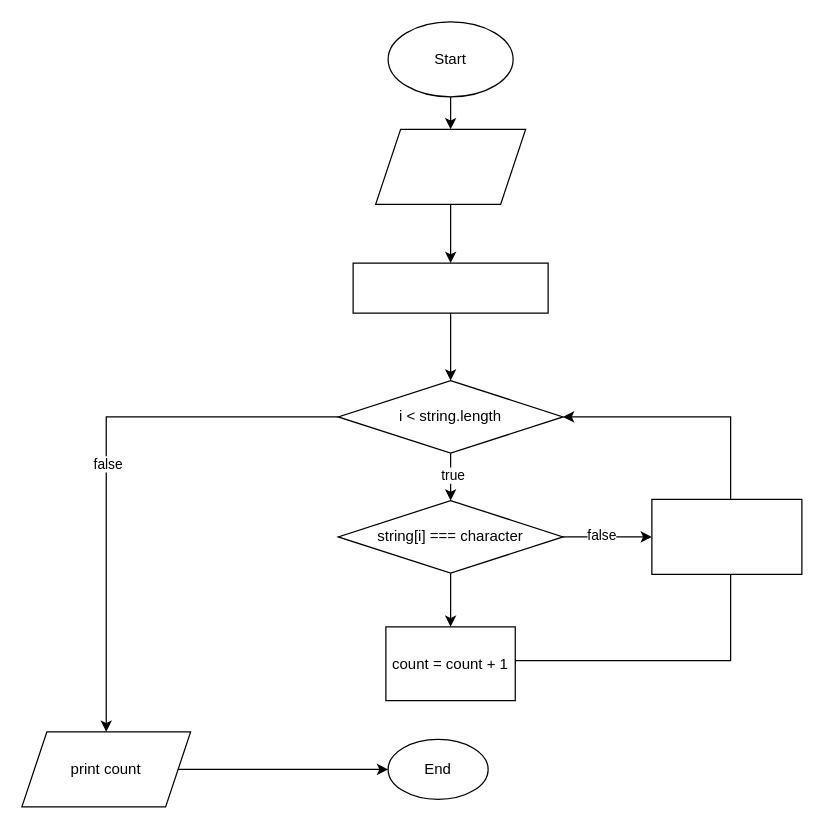
Some shapes in this 824 by 829 pixel diagram are drawn without their labels. Each missing label, with the box of its shape:
count = 0 i = 0: (352, 262, 548, 313)
i = i + 1: (651, 498, 802, 574)
string: (374, 128, 526, 204)
